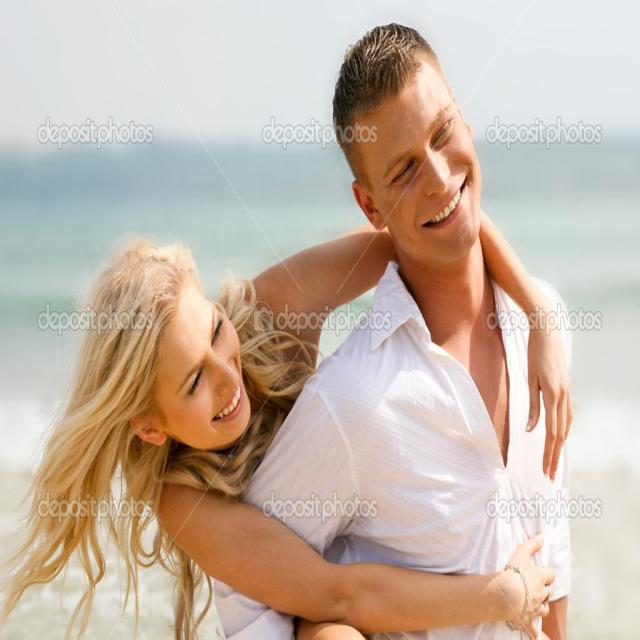Face: (367, 55, 493, 261), (147, 300, 259, 453)
